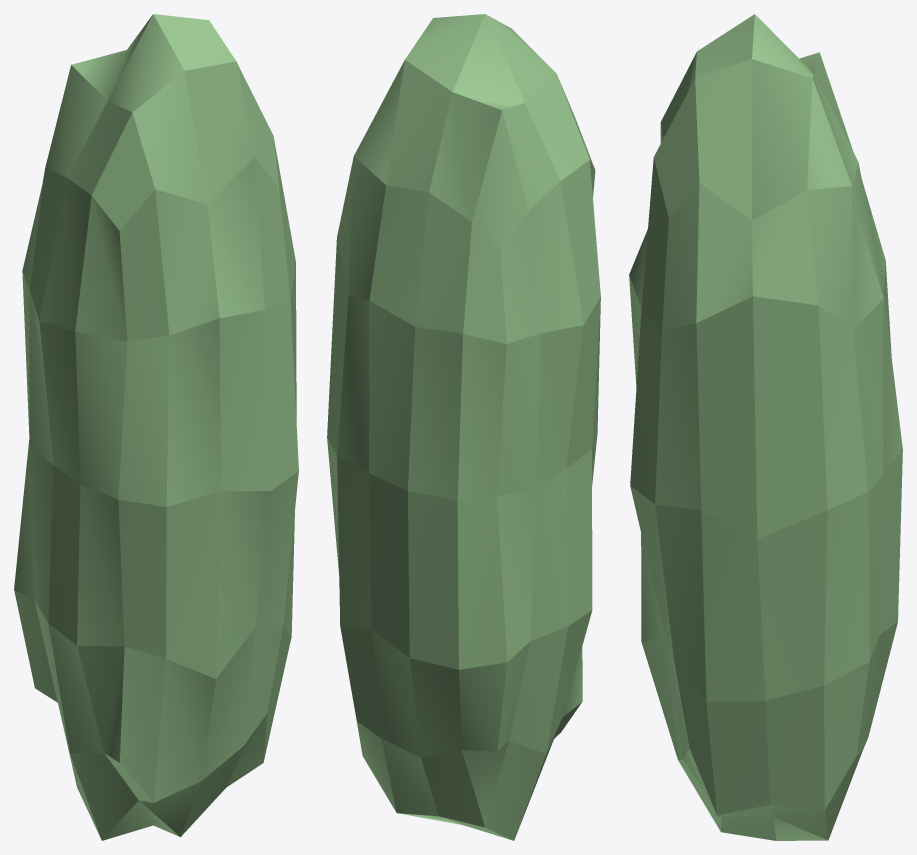
Rendered from TallBush.fbx.
3 renders of one model, left to right at view 1: azimuth 30°, elevation 25°; view 2: azimuth 150°, elevation 25°; view 3: azimuth 270°, elevation 25°, orthographic.
Parts seen in each view (by area): view 1: pCube4677; view 2: pCube4677; view 3: pCube4677.
Boxes of the visible parts, x1,y1,x2,y2 form: pCube4677: (14, 14, 298, 840); pCube4677: (327, 14, 600, 840); pCube4677: (629, 14, 902, 840).
Size of the model in its own units: 1.27 by 4.19 by 1.26.
